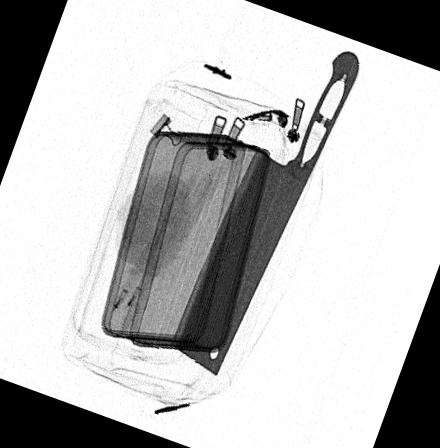Knife: (170, 50, 360, 374)
